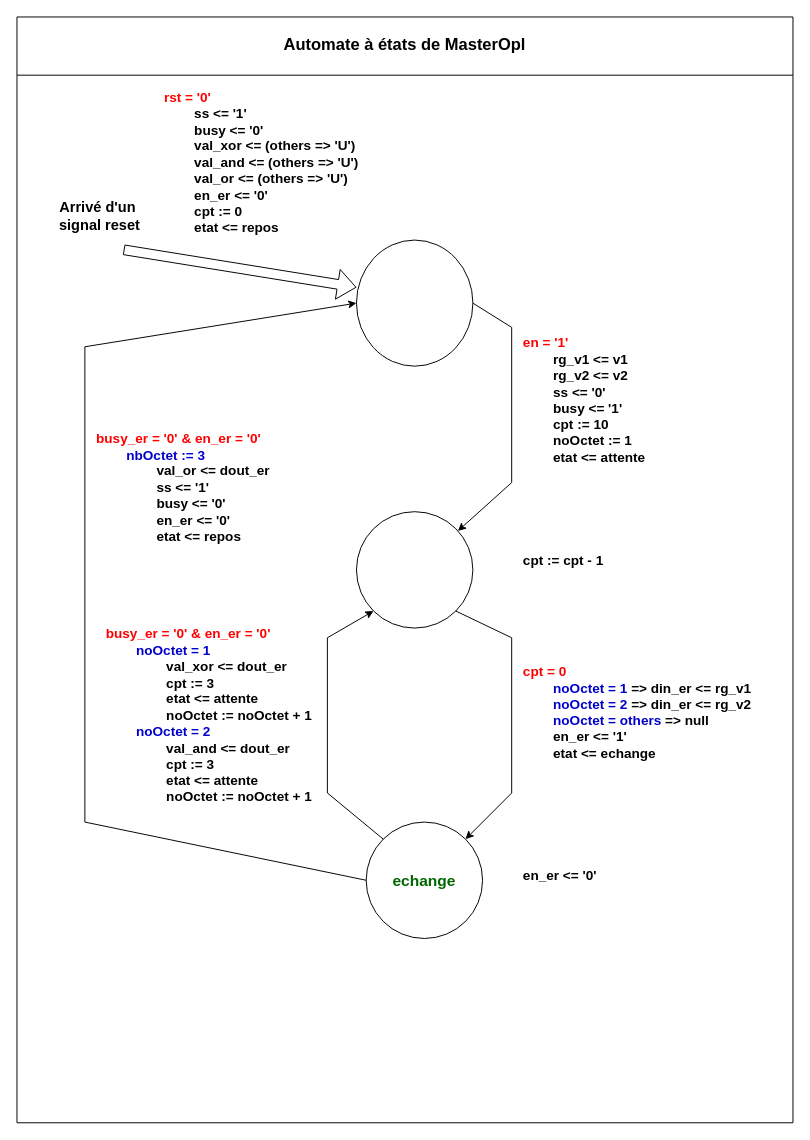
Image size: 810x1140. Some labels were removed from this diagram. The shapes that lost their labels are listed below. From the top down, each one's centre as x and y in pixels, then its label:
the point at 414,302: repos
the point at 414,569: attente
